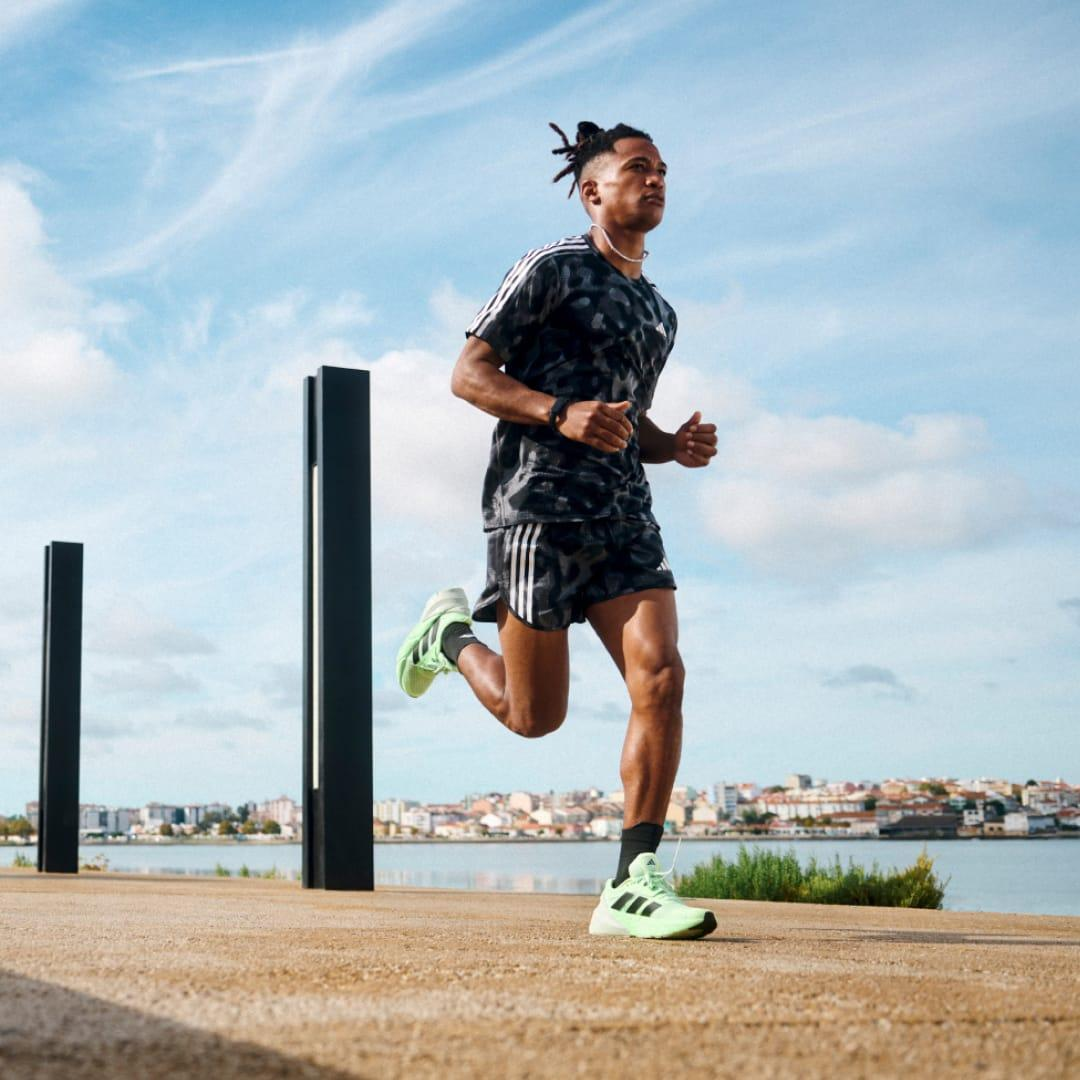adidas logo: (399, 606, 450, 676), (604, 876, 667, 930)
